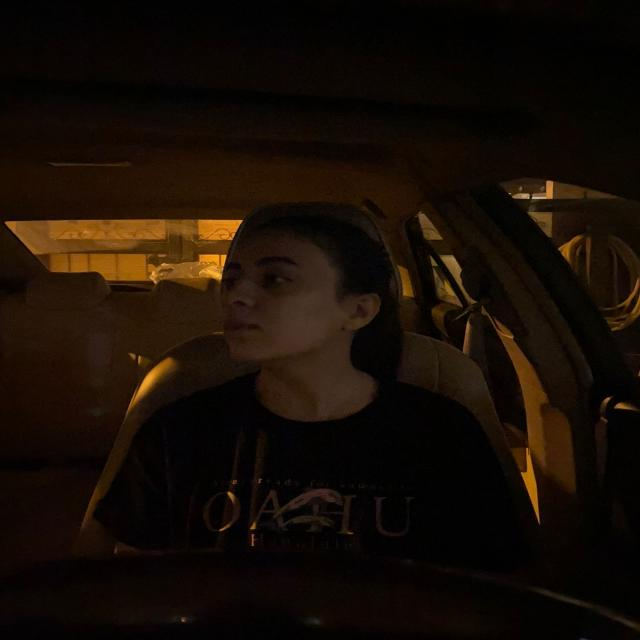LeftRight: (212, 208, 392, 426)
